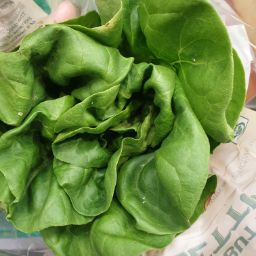Spinach: (12, 6, 241, 256), (5, 37, 224, 256)
